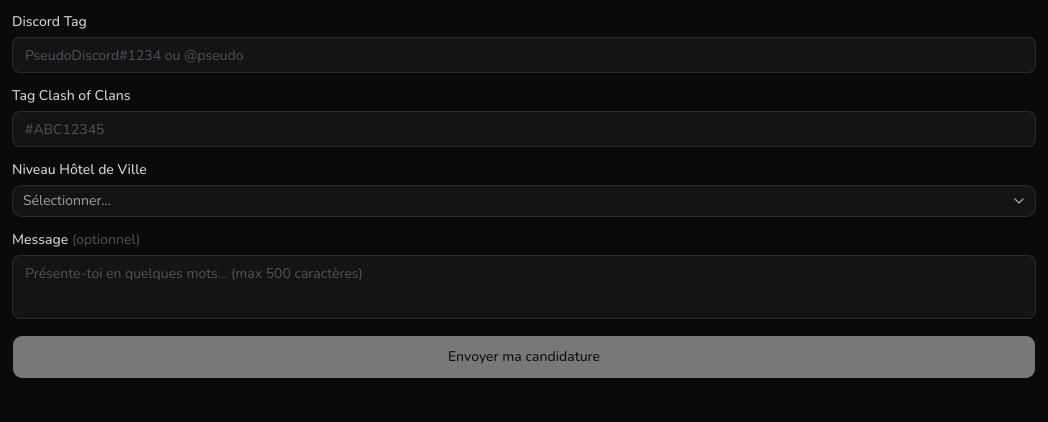
it: RecruitmentForm › affiche une erreur si le CoC Tag est sans '#'
Type "ABC12345" into the field labelled "Tag Clash of Clans". click: (524, 129)
box: [12, 111, 1036, 147]
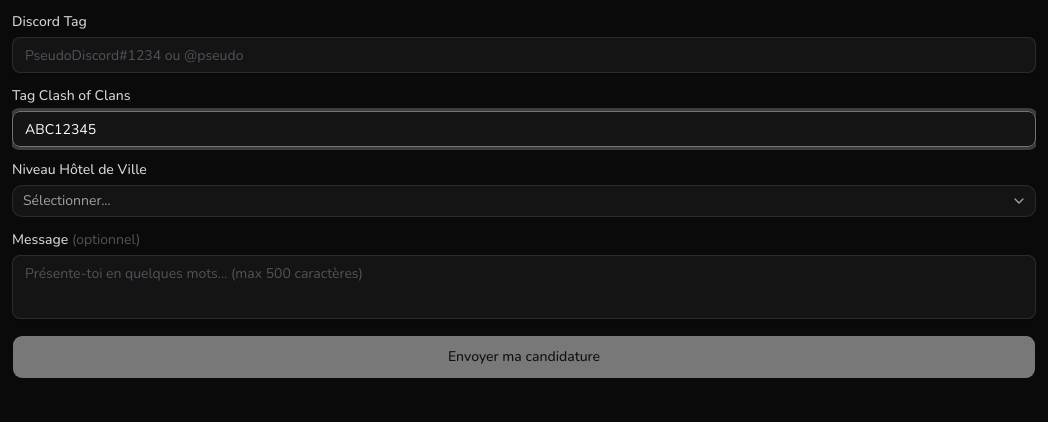
Press Tab
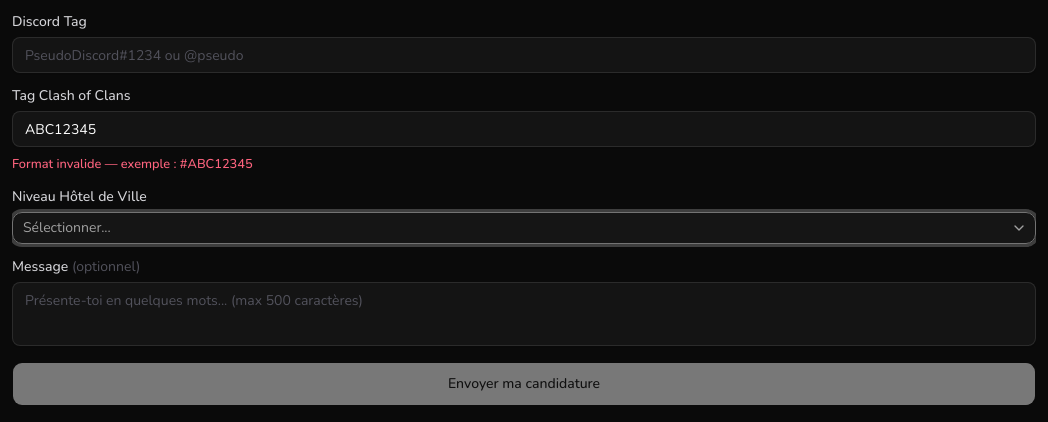
Check: the text "Format invalide — exemple : #ABC12345" is shown, box [12, 155, 253, 173]
